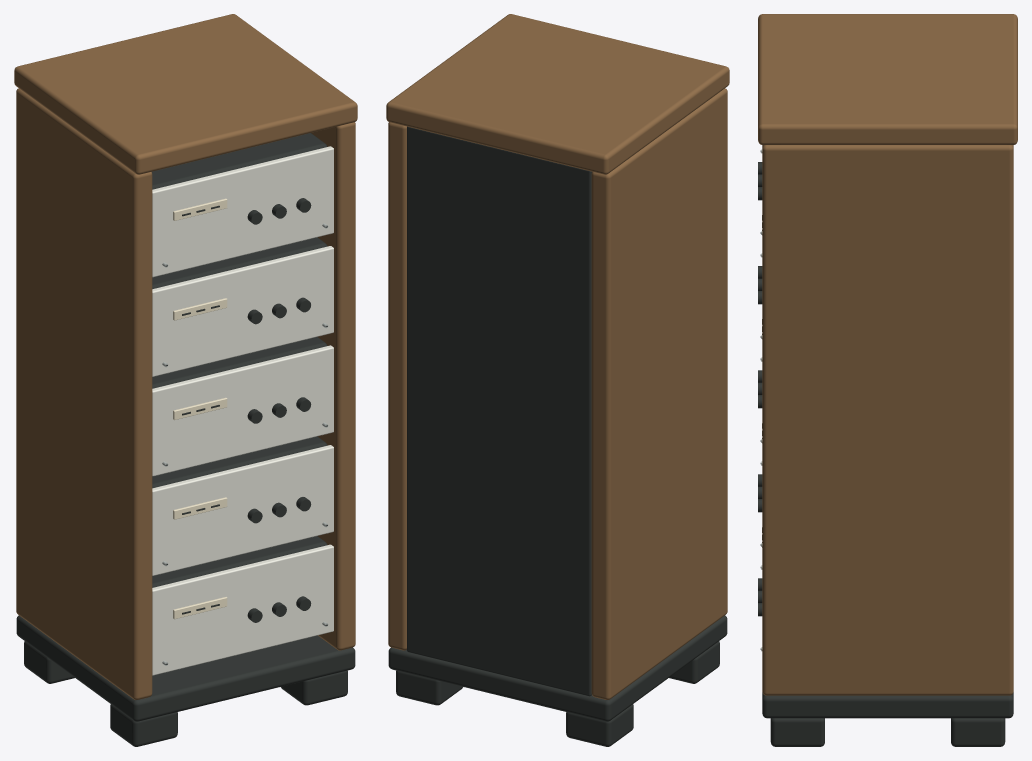
File: planetarium-and-optical-observatory-show-control-rack-36589cee__31832.glb
3 views of the same model, side by side, from view 1: azimuth 30°, elevation 25°; view 2: azimuth 150°, elevation 25°; view 3: azimuth 270°, elevation 25° (orthographic). The views are drawn at different scales.
Parts seen in each view (by area): view 1: show-control-rack; view 2: show-control-rack; view 3: show-control-rack.
Boxes of the visible parts, x1,y1,x2,y2 form: show-control-rack: (14, 14, 357, 746); show-control-rack: (386, 14, 729, 746); show-control-rack: (758, 14, 1017, 746).
Bounding box in the file's own units: 0.641 × 1.64 × 0.6199.
